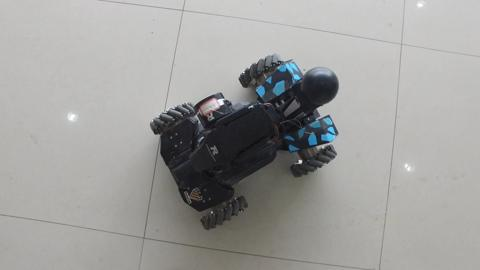chariot: (137, 38, 344, 220)
